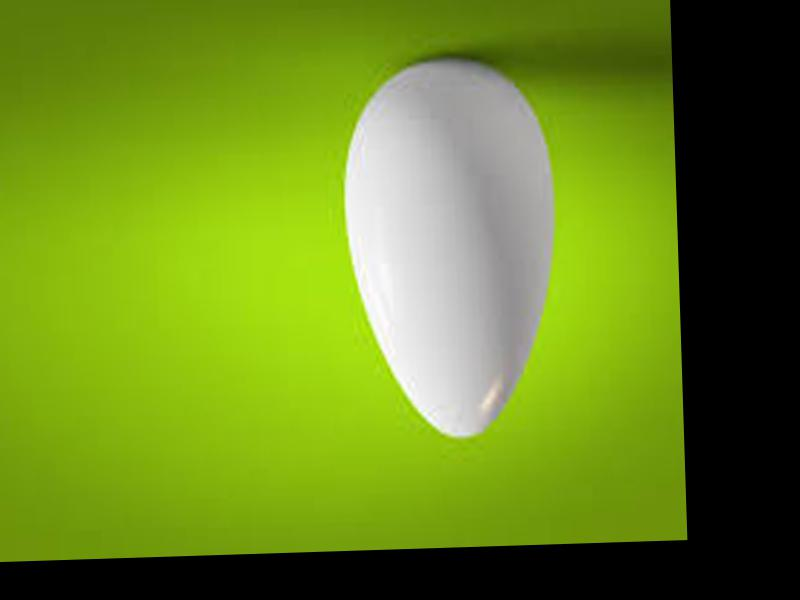Eggs: (340, 58, 561, 446)
